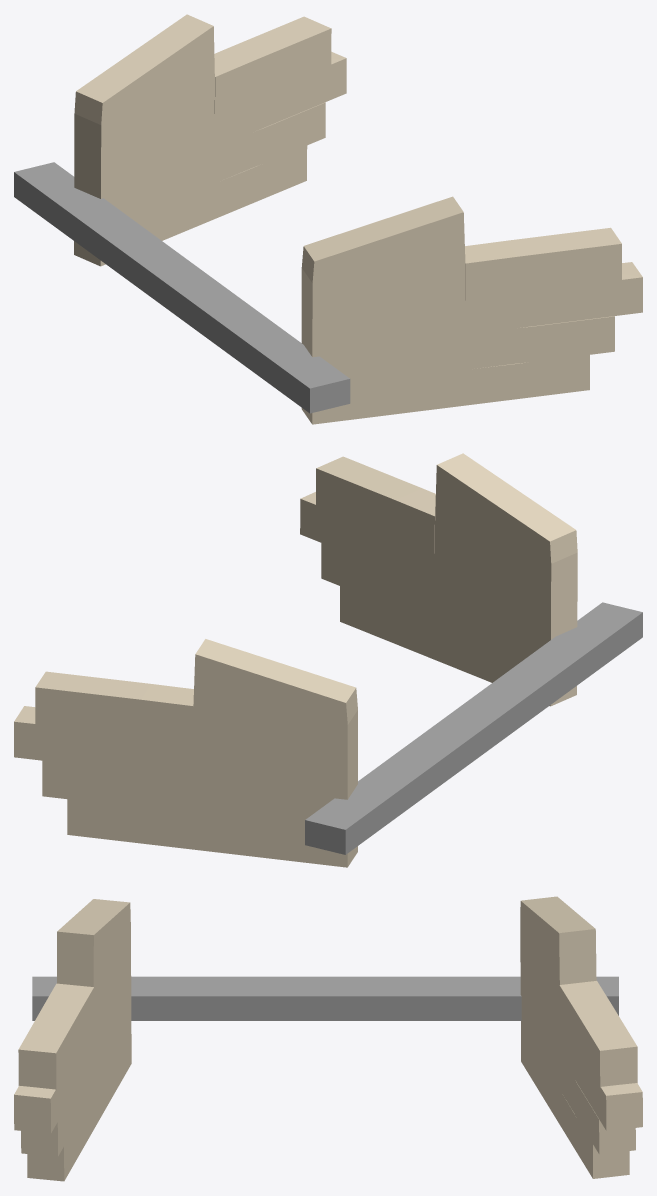
File: ExportedFBXFile.fbx
3 views of the same model, one above another, from view 1: azimuth 30°, elevation 25°; view 2: azimuth 150°, elevation 25°; view 3: azimuth 270°, elevation 25° (orthographic).
Parts seen in each view (by area): view 1: pCube3; view 2: pCube3; view 3: pCube3.
Part boxes in pixels (<box>): pCube3: <box>14,14,642,424</box>; pCube3: <box>14,453,642,867</box>; pCube3: <box>14,896,642,1181</box>.
Size of the model in its own units: 10.03 by 5.62 by 16.61.
